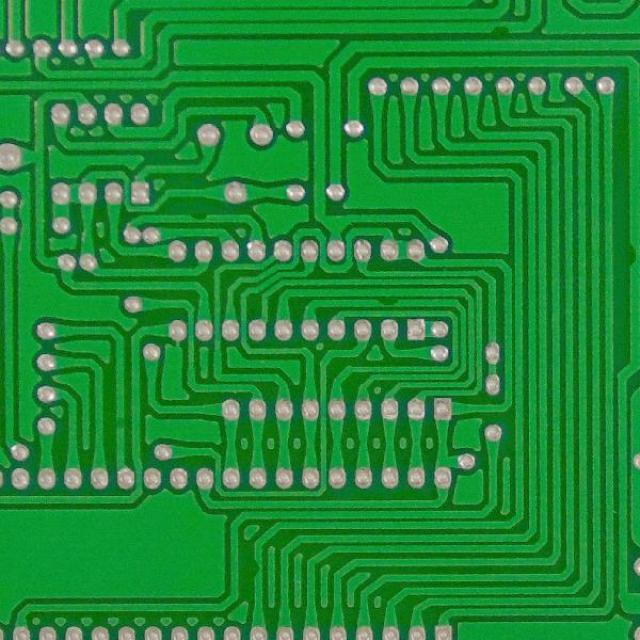MouseBite: (626, 236, 640, 276), (486, 18, 516, 35), (184, 209, 212, 225), (250, 555, 264, 580), (375, 297, 402, 307)
